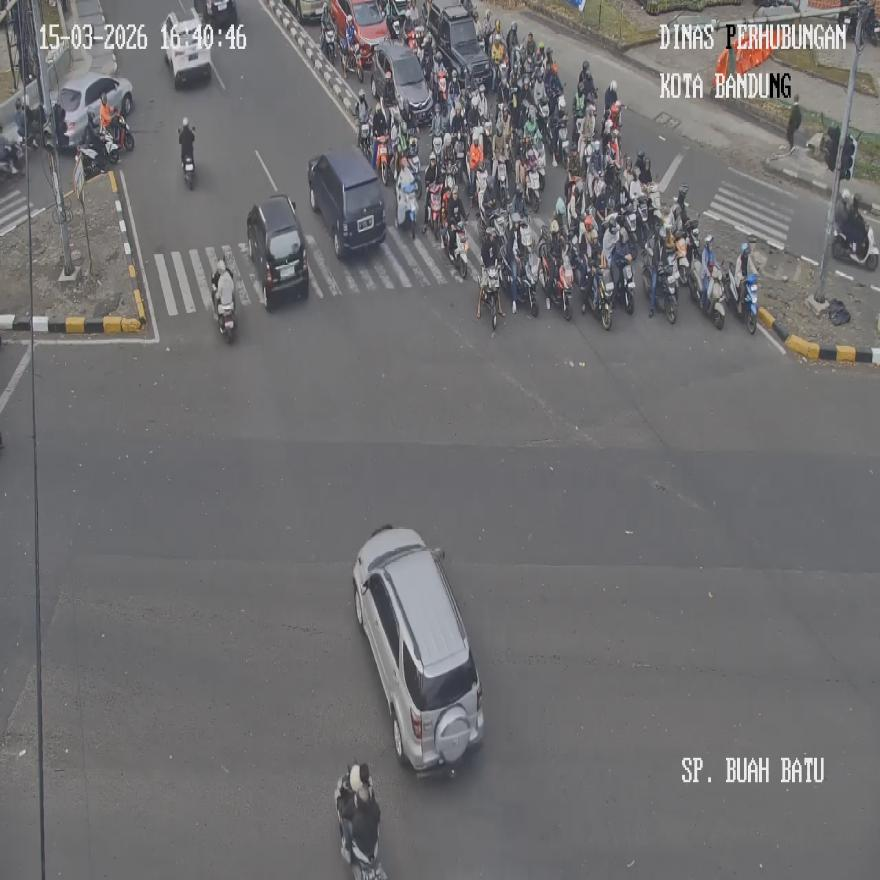Mobil: (352, 524, 484, 772), (308, 150, 386, 256), (245, 194, 308, 308)
Motor: (336, 772, 386, 879), (832, 215, 878, 271), (643, 248, 677, 323), (542, 246, 572, 319), (14, 102, 55, 150), (700, 260, 727, 330), (586, 264, 614, 330), (478, 259, 503, 331), (734, 268, 758, 334), (611, 246, 634, 314), (516, 252, 539, 316), (103, 112, 134, 154), (446, 221, 468, 279), (213, 284, 235, 342), (396, 177, 417, 237), (426, 182, 444, 243), (0, 133, 23, 179), (179, 122, 195, 187), (524, 162, 542, 212), (374, 133, 391, 185), (342, 40, 363, 80), (553, 116, 569, 166), (494, 155, 509, 207), (321, 15, 337, 61), (434, 66, 448, 110), (356, 118, 371, 156)
